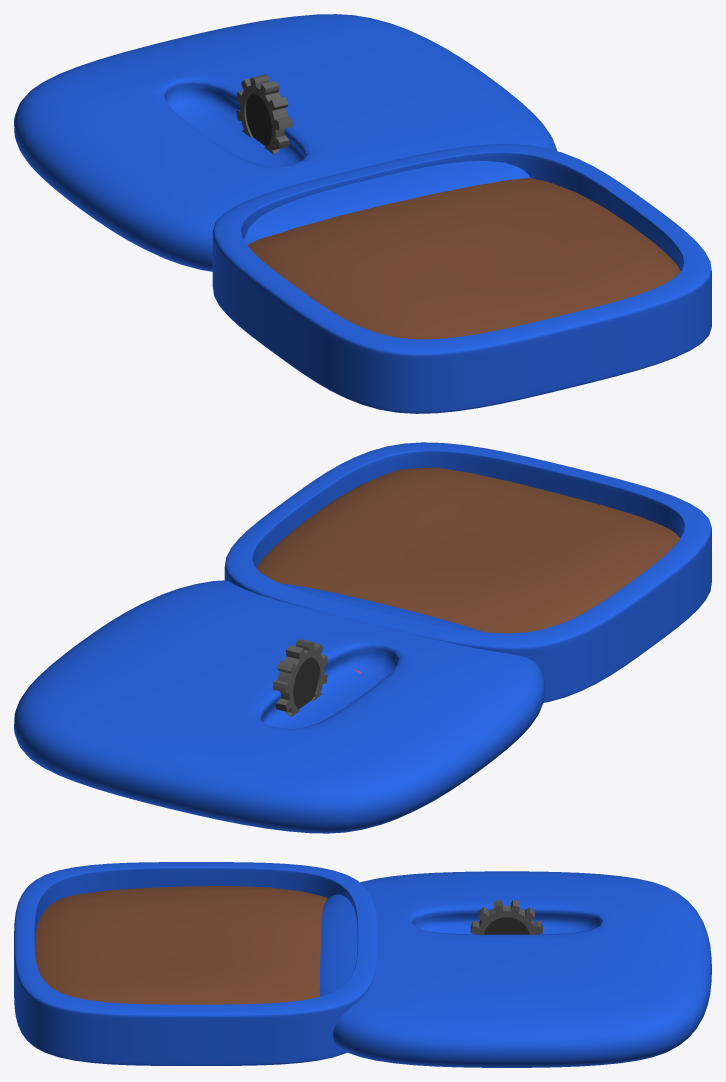
File: Simple-Animation-THREE.glb
The picture shows the model from 3 angles, top to bottom: view 1: azimuth 30°, elevation 25°; view 2: azimuth 150°, elevation 25°; view 3: azimuth 270°, elevation 25°; orthographic projection. The views are drawn at different scales.
Parts seen in each view (by area): view 1: Cube, Input, Cube.001, Gear; view 2: Cube, Cube.001, Input, Gear; view 3: Cube, Input, Cube.001, Gear.
Boxes of the visible parts, left/top/right/bottom form: Cube: left=14, top=14, right=556, bottom=271; Input: left=212, top=143, right=711, bottom=413; Cube.001: left=247, top=178, right=680, bottom=339; Gear: left=236, top=74, right=292, bottom=154; Cube: left=14, top=580, right=544, bottom=833; Cube.001: left=256, top=467, right=680, bottom=633; Input: left=224, top=442, right=711, bottom=702; Gear: left=272, top=639, right=327, bottom=716; Cube: left=319, top=871, right=711, bottom=1067; Input: left=14, top=862, right=377, bottom=1065; Cube.001: left=35, top=886, right=327, bottom=1004; Gear: left=470, top=900, right=542, bottom=934.
Size of the model in its own units: 12.33 by 2.93 by 20.97.
